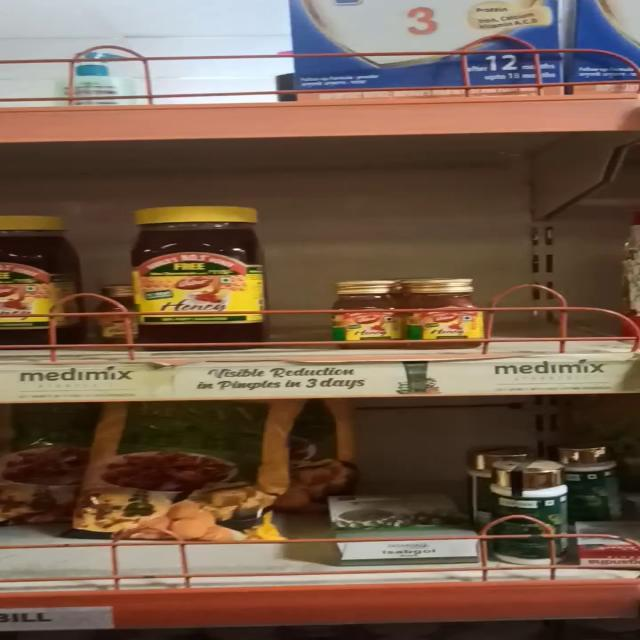Dabur Honey: (141, 210, 262, 344), (404, 276, 484, 341), (330, 279, 400, 345)
